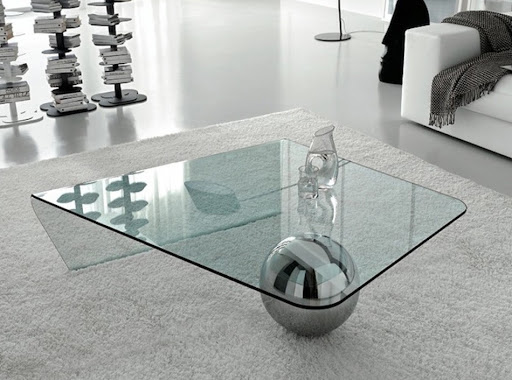sofa: (390, 7, 512, 167)
table: (23, 135, 476, 341)
